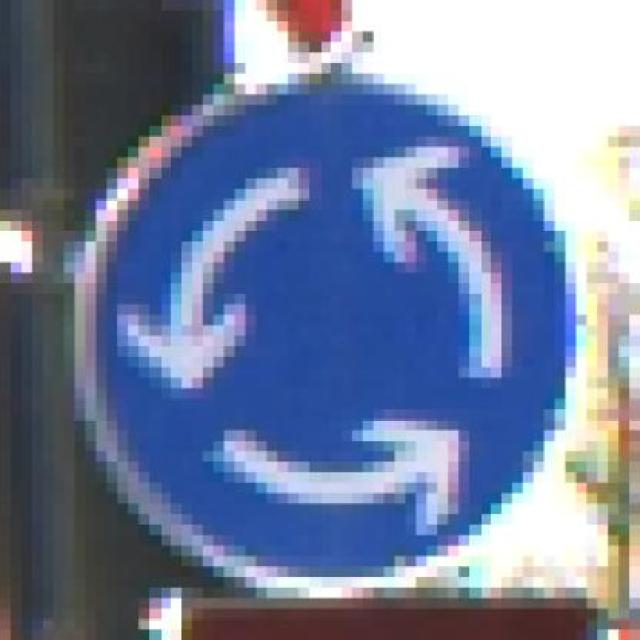Round-About: (31, 42, 608, 620)
